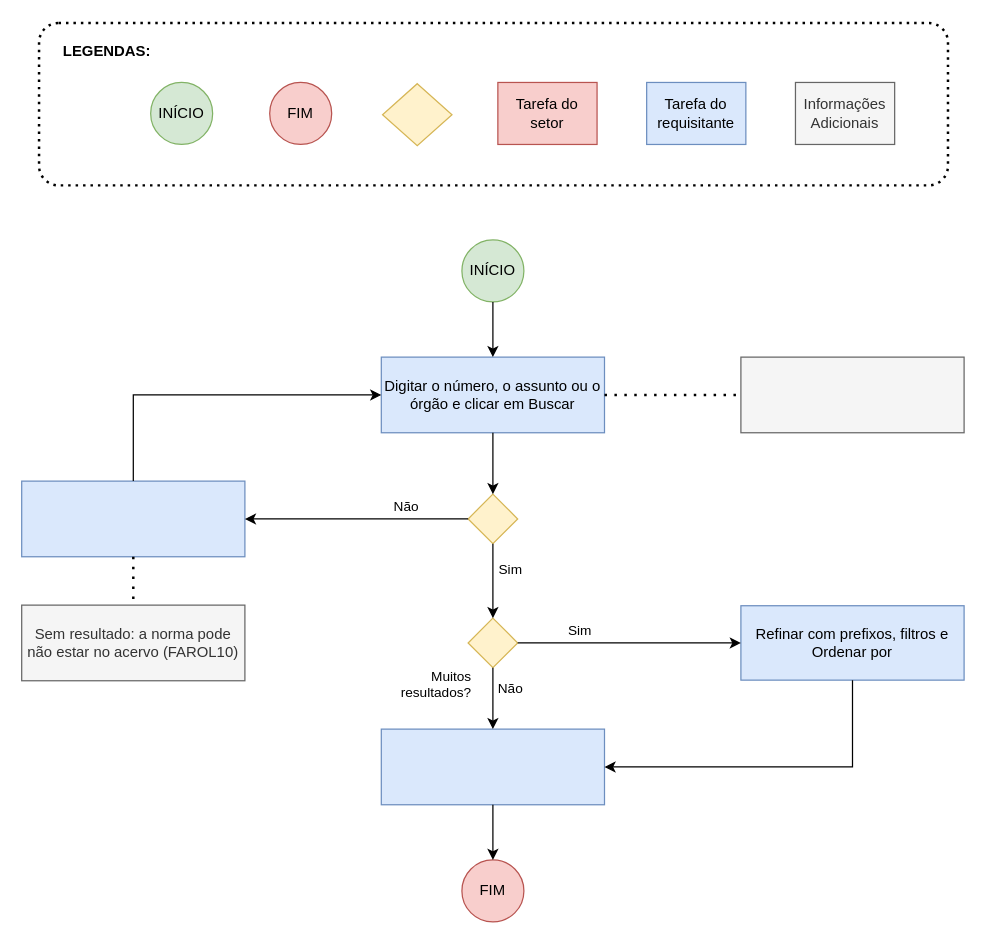
Some shapes in this 986 by 944 pixel diagram are drawn without their labels. Each missing label, with the centre of its shape:
Clicar no rótulo da norma para abrir a ficha (FAROL03): [492,766]
Encontrou resultados?: [492,518]
Ex.: 29/2020 · estágio · consepe 2015 · orgao:cne ano:2019: [852,394]
SE: [416,114]
Tentar só o número, outra palavra ou o órgão e o ano: [132,518]
